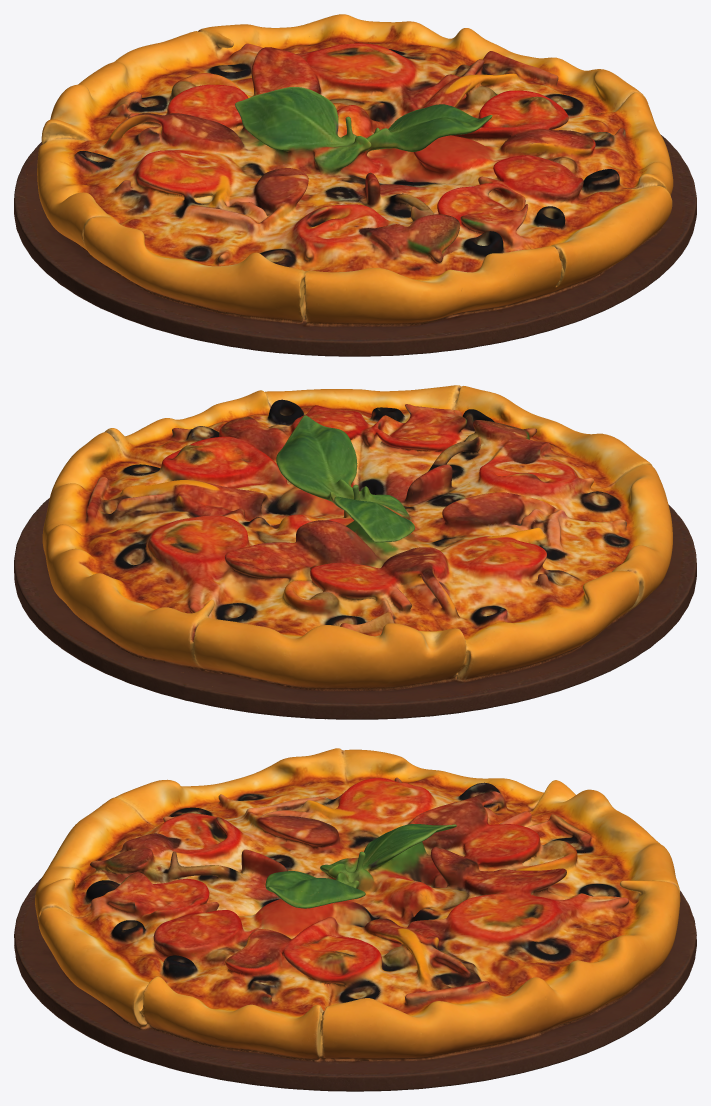
Rendered from pizza.glb.
3 renders of one model, top to bottom at view 1: azimuth 30°, elevation 25°; view 2: azimuth 150°, elevation 25°; view 3: azimuth 270°, elevation 25°, orthographic.
Size of the model in its own units: 1.89 by 0.3995 by 1.9.
Materials: 1 (1 with a texture image).
